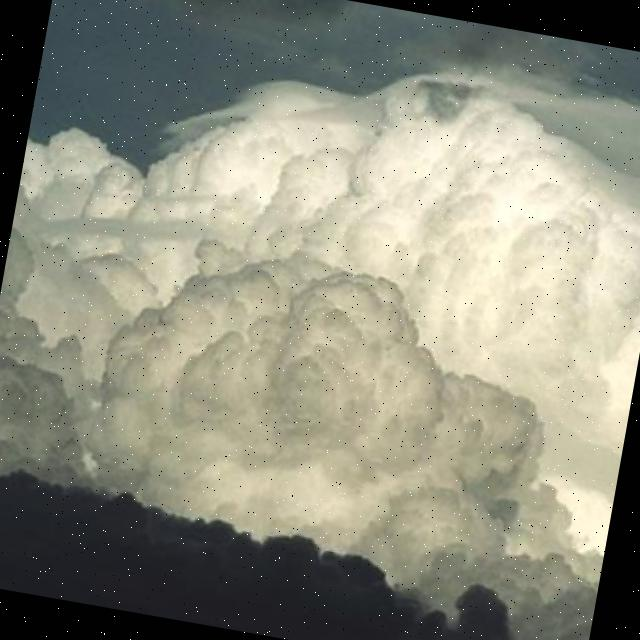Cb: (1, 8, 640, 547)
